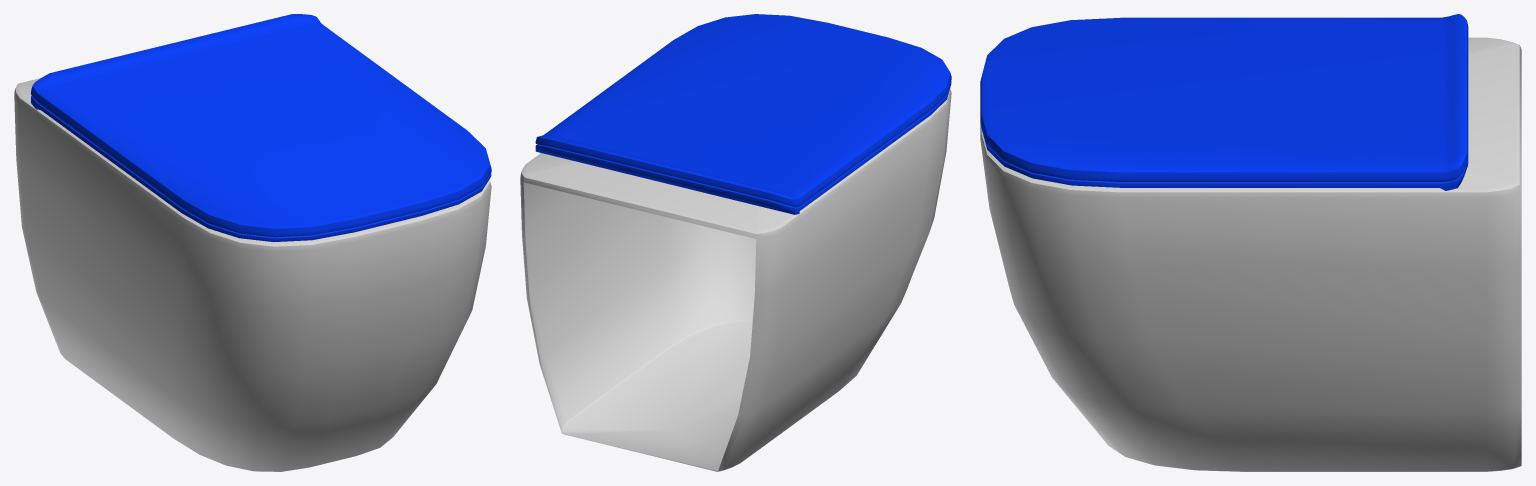
File: Zachod_Tesi_IDEALSTANDARS.FBX
The picture shows the model from 3 angles, left to right: view 1: azimuth 30°, elevation 25°; view 2: azimuth 150°, elevation 25°; view 3: azimuth 270°, elevation 25°; orthographic projection. The views are drawn at different scales.
Parts seen in each view (by area): view 1: Zachod_Tesi_IDEALSTANDARS; view 2: Zachod_Tesi_IDEALSTANDARS; view 3: Zachod_Tesi_IDEALSTANDARS.
Part boxes in pixels (x1,y1,x2,y2): Zachod_Tesi_IDEALSTANDARS: (14, 14, 491, 471); Zachod_Tesi_IDEALSTANDARS: (520, 14, 951, 471); Zachod_Tesi_IDEALSTANDARS: (980, 14, 1521, 471).
Size of the model in its own units: 36.45 by 36.53 by 53.41.
